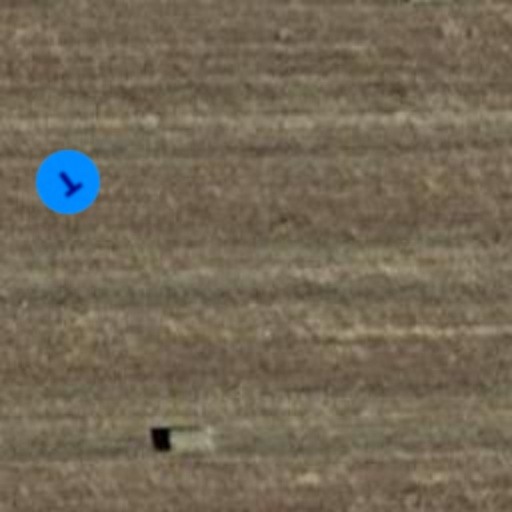circle: (22, 136, 114, 228)
